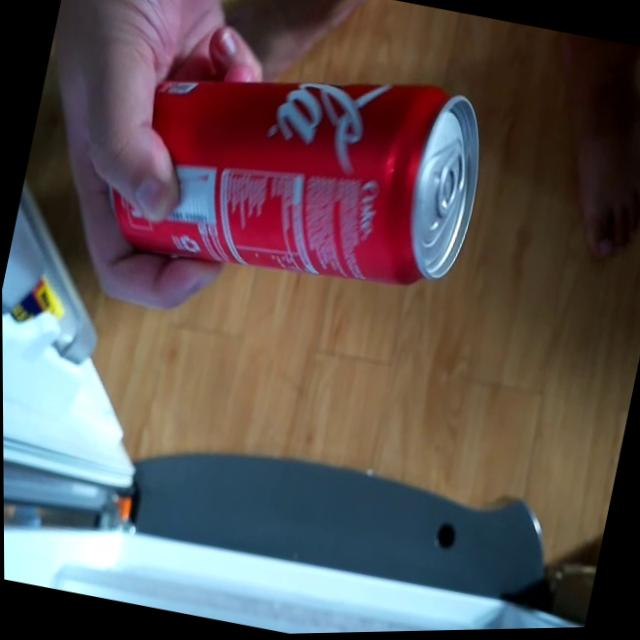coke: (111, 18, 500, 313)
